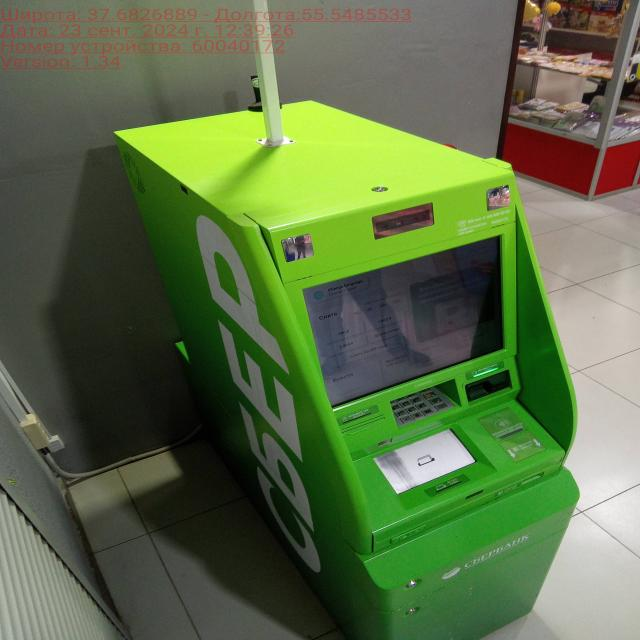bank: (112, 98, 582, 640)
